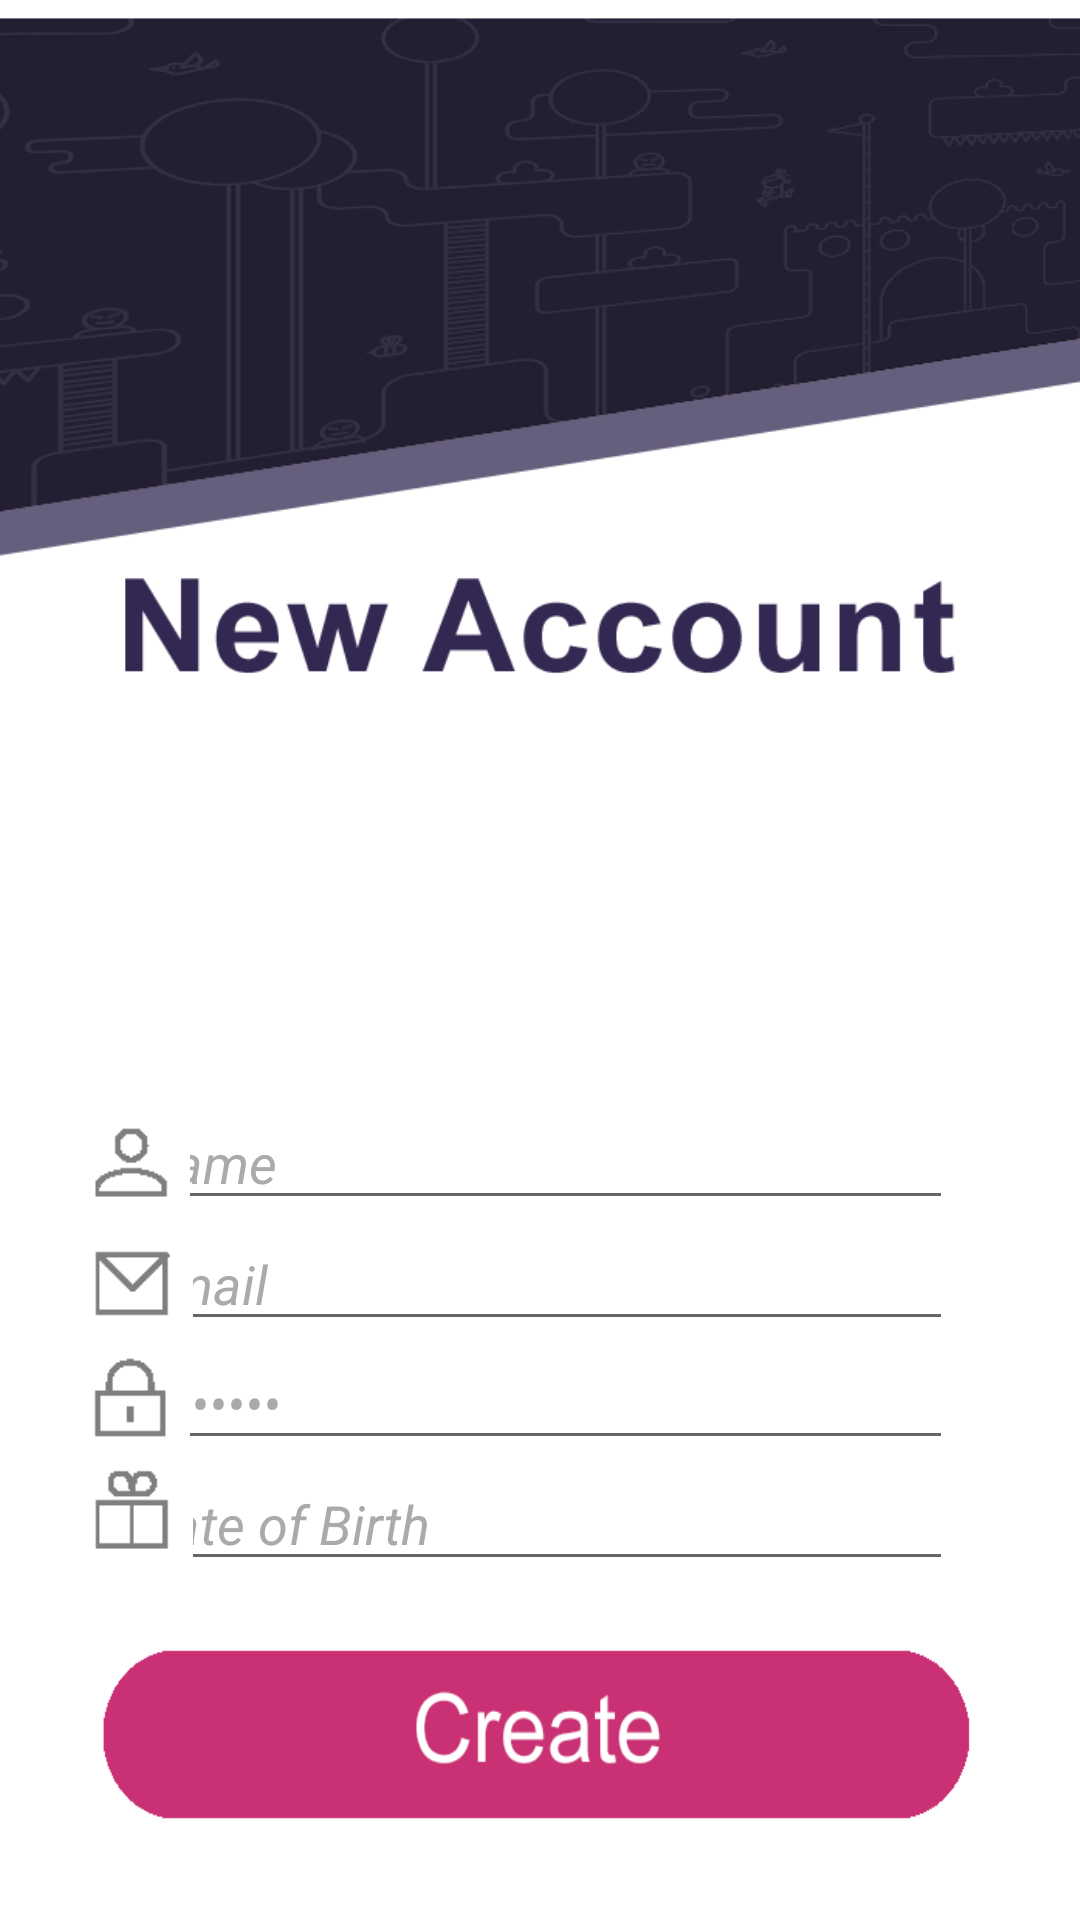

Named icons in this screenshot (1080x1920) and their centers, (x,y):
opsc signupdob: (131,1510)
opsc signuppass: (130,1397)
opsc signupperson: (131,1162)
